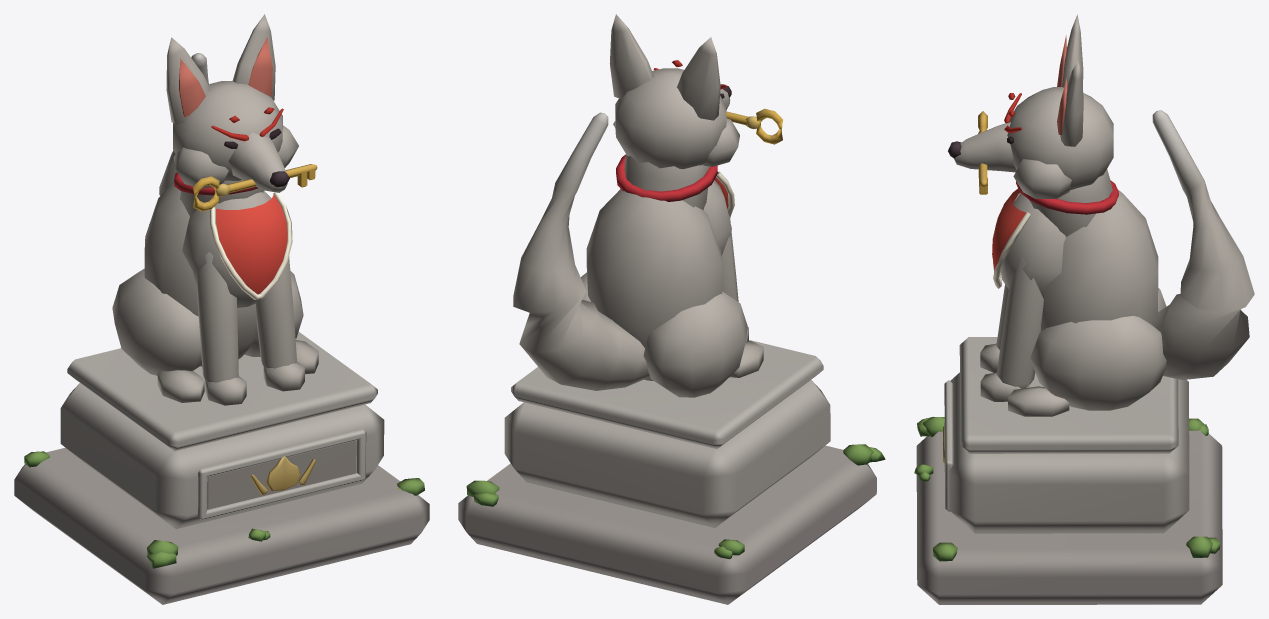
File: furn-foxStatue.glb
3 renders of one model, left to right at view 1: azimuth 30°, elevation 25°; view 2: azimuth 150°, elevation 25°; view 3: azimuth 270°, elevation 25°, orthographic.
Parts seen in each view (by area): view 1: furn; view 2: furn; view 3: furn.
Boxes of the visible parts, x1,y1,x2,y2 form: furn: [14, 14, 429, 604]; furn: [458, 14, 885, 604]; furn: [914, 14, 1254, 604].
Bounding box in the file's own units: 0.461 × 0.7678 × 0.4684.
